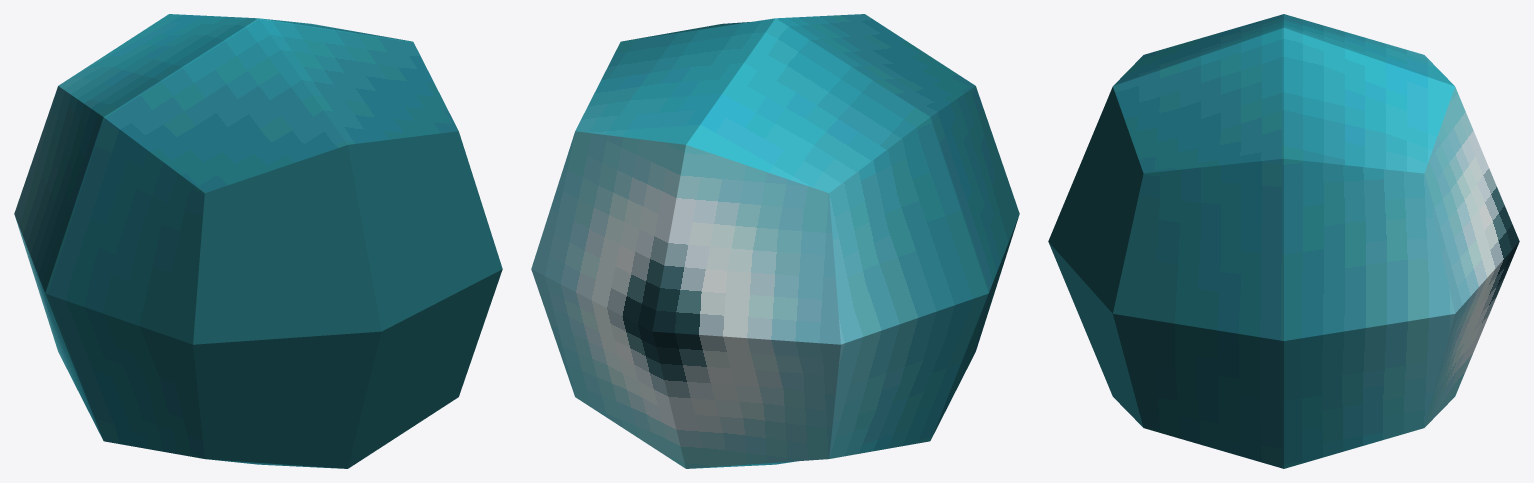
The model's file is cloud_enemy_eye.glb.
The picture shows the model from 3 angles, left to right: view 1: azimuth 30°, elevation 25°; view 2: azimuth 150°, elevation 25°; view 3: azimuth 270°, elevation 25°; orthographic projection. The views are drawn at different scales.
Visible parts, largest first — view 1: eye; view 2: eye; view 3: eye.
Part boxes in pixels (left/top/right/bottom): eye: left=14, top=14, right=502, bottom=468; eye: left=531, top=14, right=1019, bottom=468; eye: left=1048, top=14, right=1519, bottom=468.
Size of the model in its own units: 1 by 1 by 1.
1 material, 1 textured.
